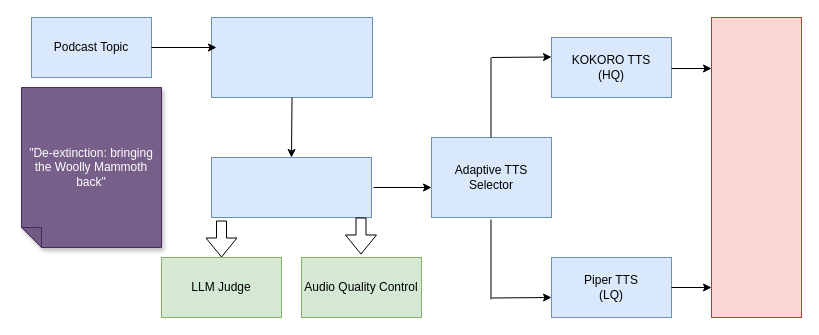
Image size: 819x335. Some labels were removed from this diagram. The shapes that lost their labels are listed below. From the top down, each one's centre as x and y in pixels, then its label:
At (x=291, y=57): "Podcast Script Generator (Meta Llama 3.1 8B)".
At (x=291, y=187): "Podcast Script Output (Host/Guest conversation)".
At (x=756, y=167): "Podcast Audio wav file".
